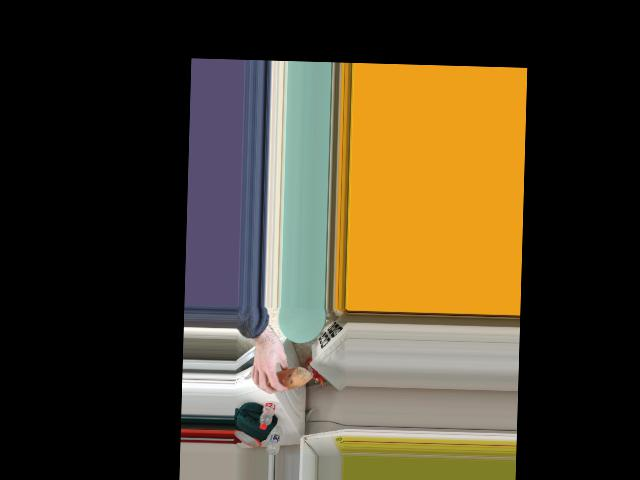sweet_potato: (262, 366, 311, 389)
